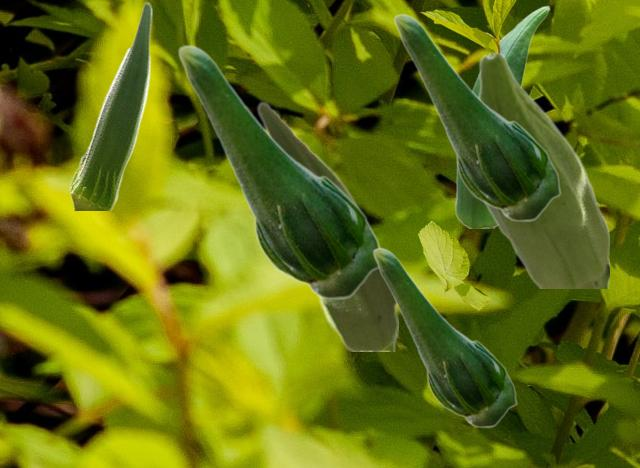okra: (177, 44, 380, 299), (256, 100, 397, 350), (393, 13, 560, 221), (477, 51, 608, 287), (372, 247, 516, 427), (454, 5, 549, 227), (69, 1, 151, 209)
